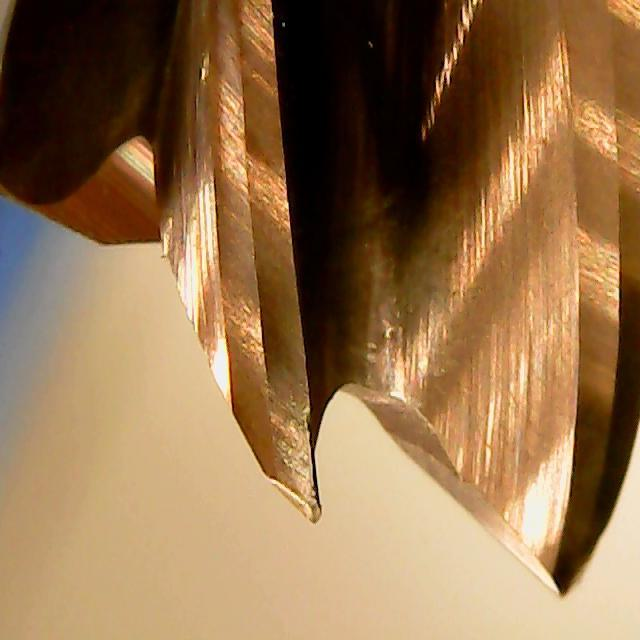Tool-wear-class-1: (212, 197, 337, 530)
